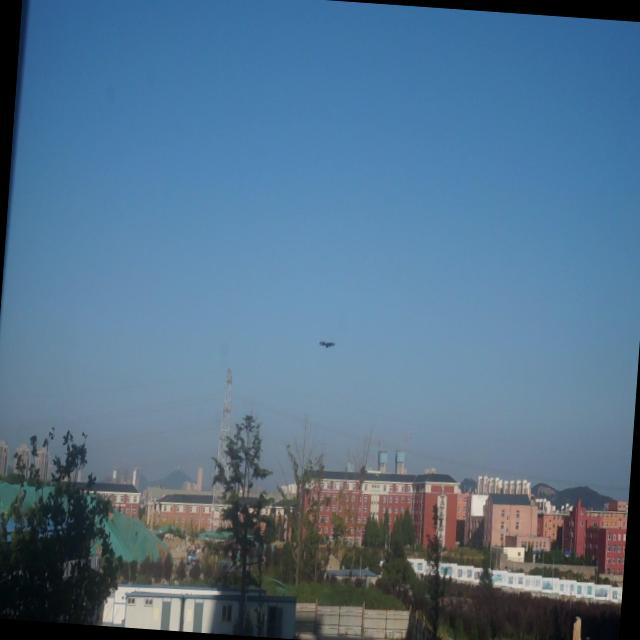drone: (316, 335, 334, 356)
